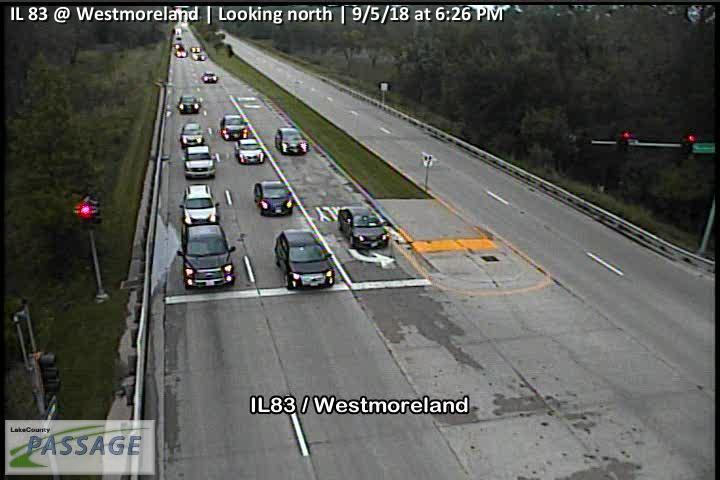Bus: (337, 204, 390, 249), (254, 179, 294, 217), (233, 138, 266, 165)
SUV: (176, 224, 236, 291), (274, 228, 336, 290), (178, 183, 221, 227), (183, 144, 216, 180), (274, 127, 310, 155), (220, 113, 249, 141)
Sedan: (180, 122, 205, 149), (177, 94, 202, 114), (202, 71, 216, 82)
